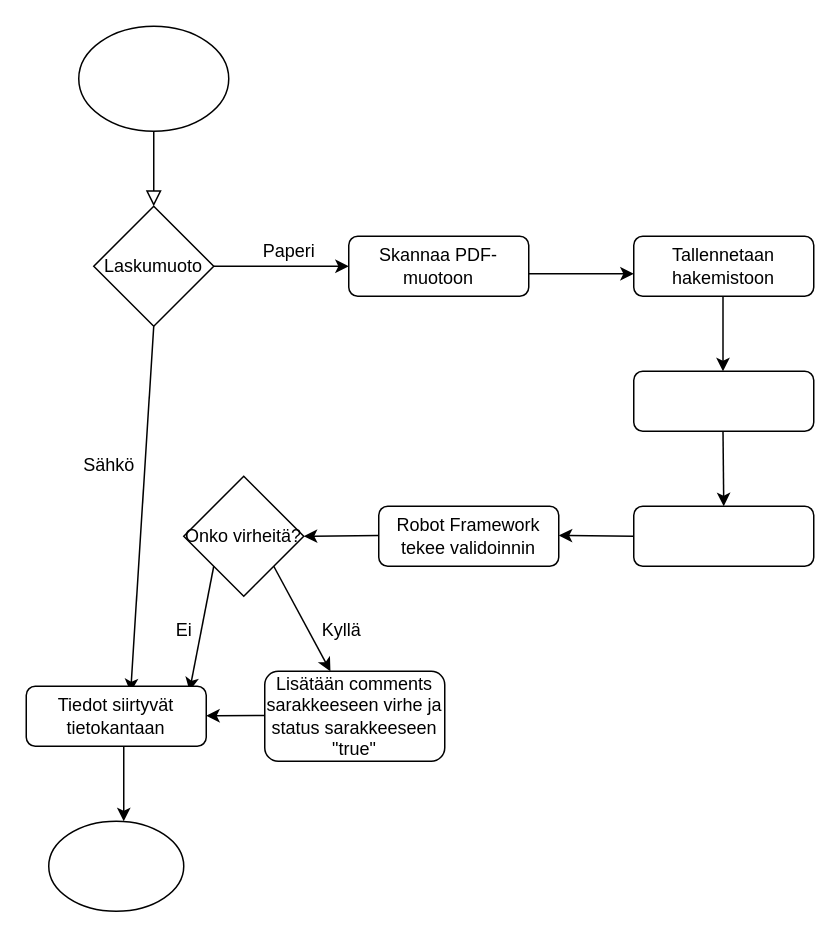
The diagram is 840 pixels wide and 938 high, and some of its shapes have lost their labels. The centre of each missing label's shape, as x and y in pixels:
"End" belongs at (115,865).
"Start" belongs at (153,78).
"Tallentaa CSV-tiedostoon" belongs at (723,535).
"UIPath lukee PDF-laskun" belongs at (723,400).
